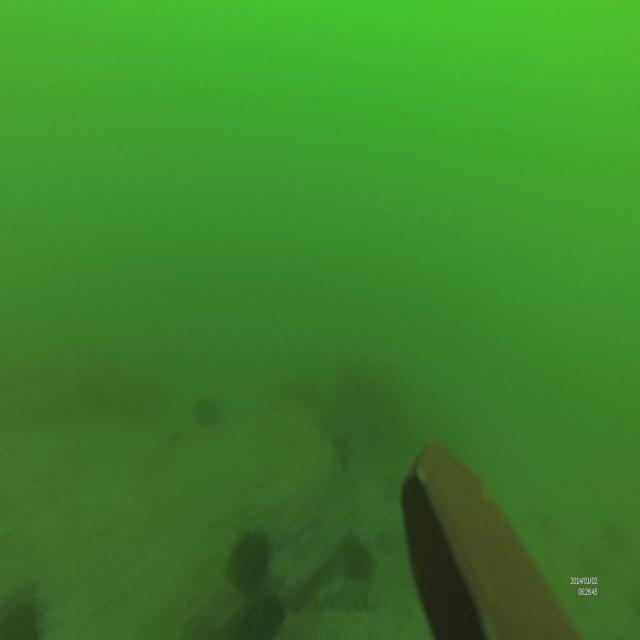echinus: (228, 528, 274, 590), (236, 588, 286, 640), (0, 587, 44, 640)
holothurian: (311, 581, 375, 618)
